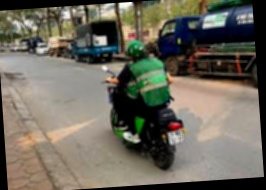Bien-so: (164, 134, 181, 151)
